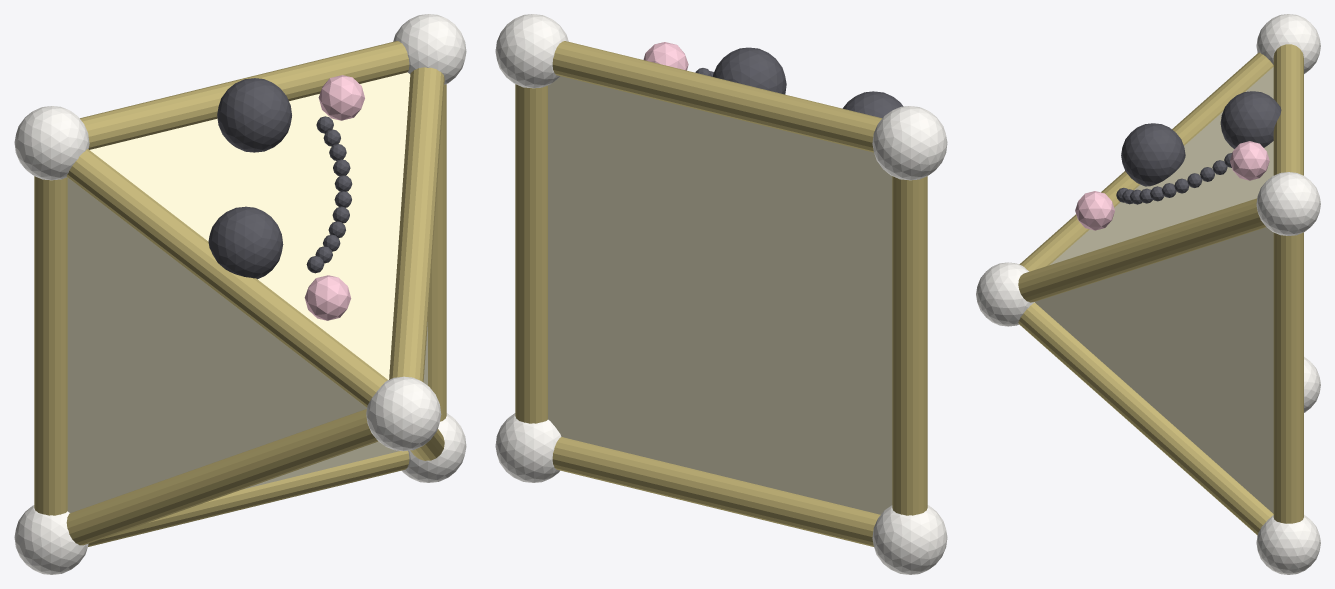
Rendered from square_pyramid_cute_smile_facets_edges_vertices.glb.
3 renders of one model, left to right at view 1: azimuth 30°, elevation 25°; view 2: azimuth 150°, elevation 25°; view 3: azimuth 270°, elevation 25°, orthographic. The views are drawn at different scales.
Visible parts, largest first — view 1: PyramidBody, PyramidEdges, PyramidVertices, SmileyFeatures, Cheeks; view 2: PyramidBody, PyramidEdges, PyramidVertices, SmileyFeatures, Cheeks; view 3: PyramidBody, PyramidEdges, PyramidVertices, SmileyFeatures, Cheeks.
Boxes of the visible parts, left/top/right/bottom form: PyramidBody: left=67, top=72, right=427, bottom=512; PyramidEdges: left=34, top=41, right=446, bottom=546; PyramidVertices: left=14, top=14, right=466, bottom=574; SmileyFeatures: left=208, top=78, right=352, bottom=279; Cheeks: left=304, top=75, right=364, bottom=320; PyramidBody: left=548, top=76, right=892, bottom=514; PyramidEdges: left=515, top=41, right=927, bottom=546; PyramidVertices: left=495, top=14, right=947, bottom=574; SmileyFeatures: left=695, top=47, right=903, bottom=118; Cheeks: left=643, top=42, right=688, bottom=70; PyramidBody: left=1035, top=67, right=1273, bottom=513; PyramidEdges: left=1018, top=44, right=1303, bottom=535; PyramidVertices: left=976, top=14, right=1320, bottom=574; SmileyFeatures: left=1116, top=91, right=1281, bottom=204; Cheeks: left=1075, top=141, right=1269, bottom=230.
Size of the model in its own units: 2.35 by 2.35 by 1.85.
